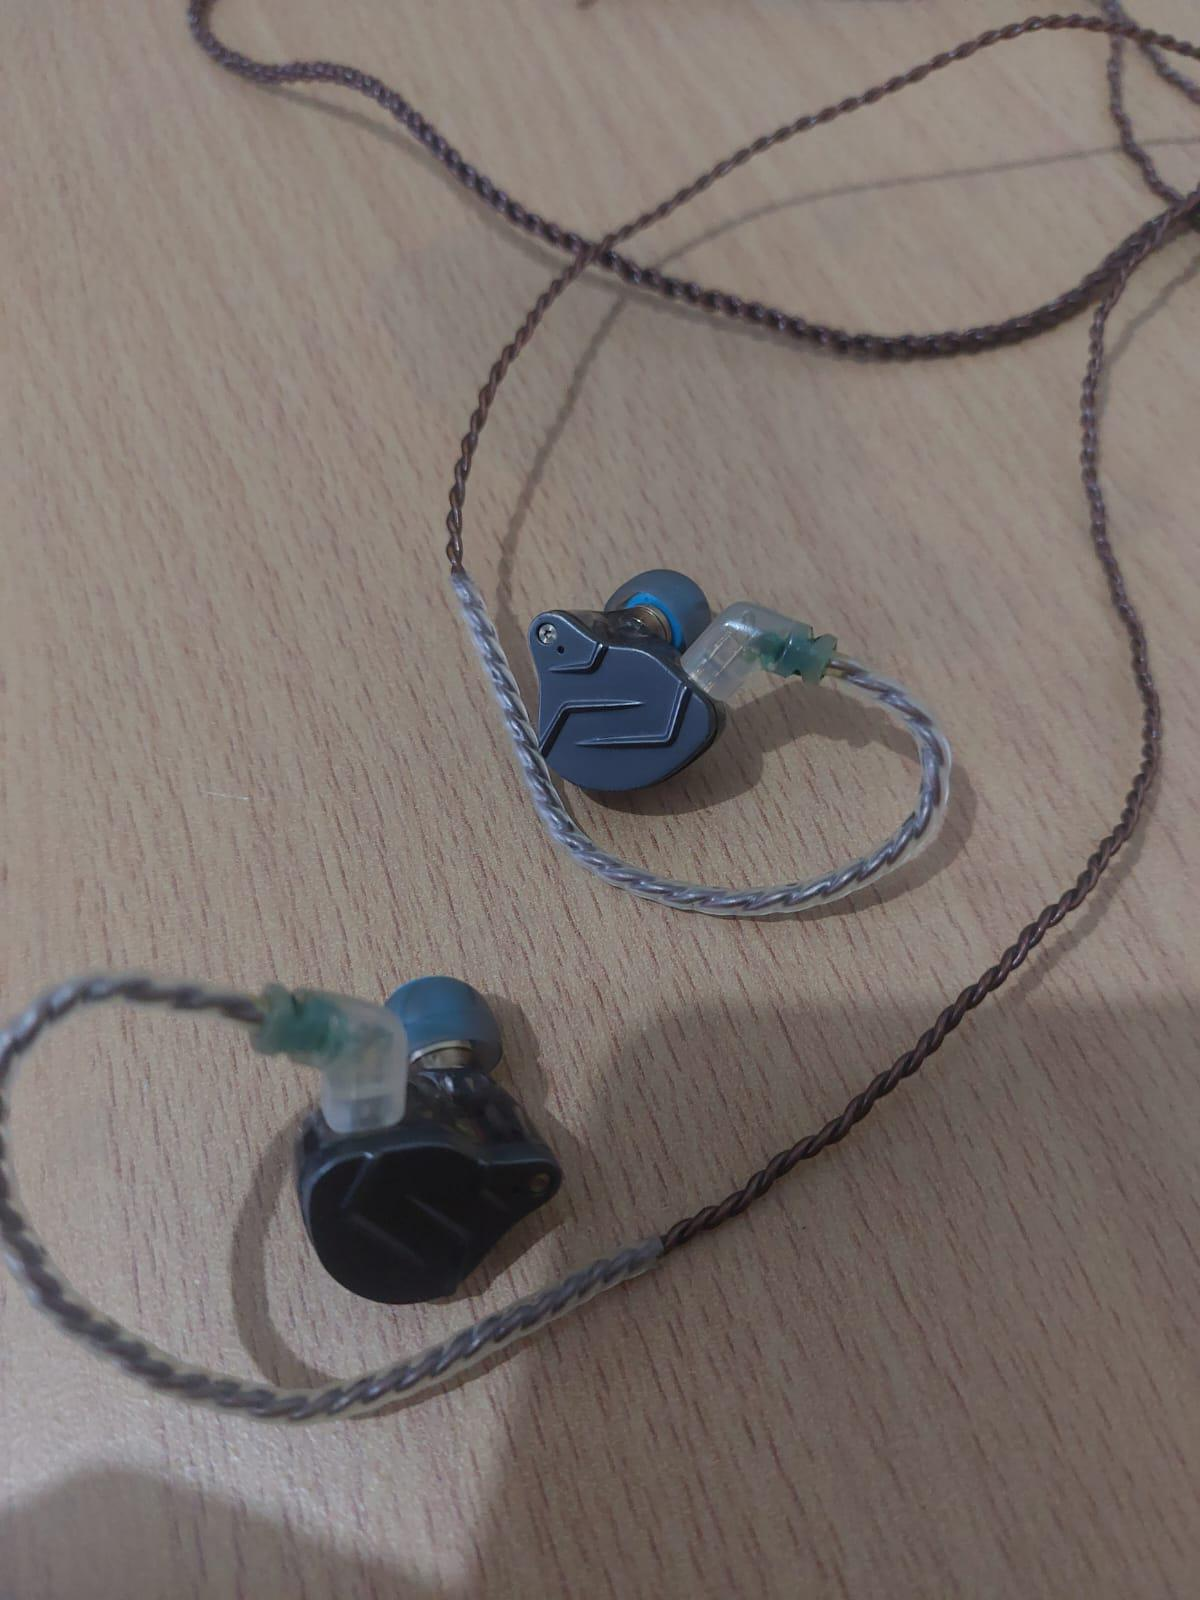Earphone: (497, 486, 978, 934), (207, 918, 603, 1381)
